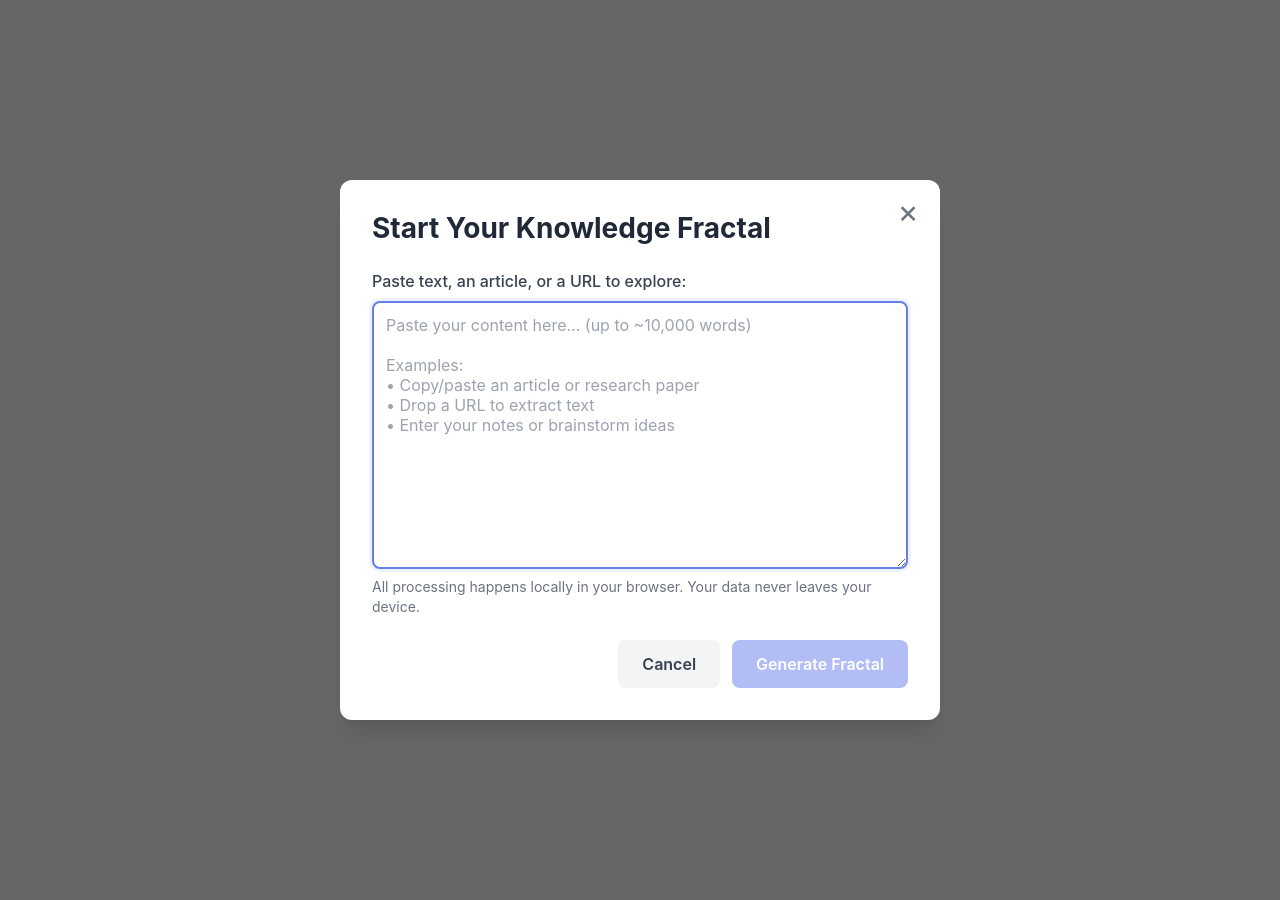
Scenario: ChoreComponent › Modal › closes modal when close button is clicked
Click the button named "close modal" at (908, 212), box 892,196 -> 924,228
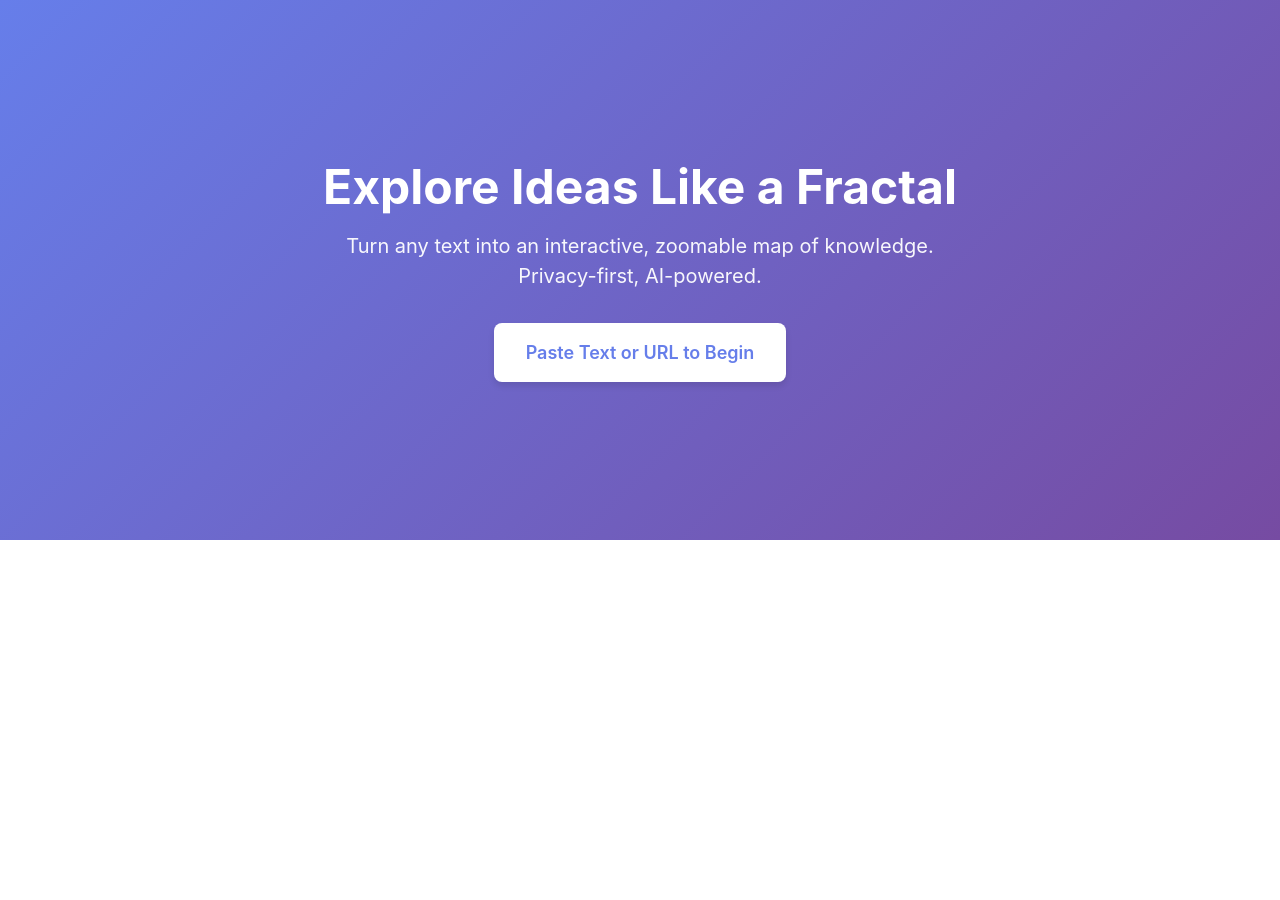
Now the dialog is gone
